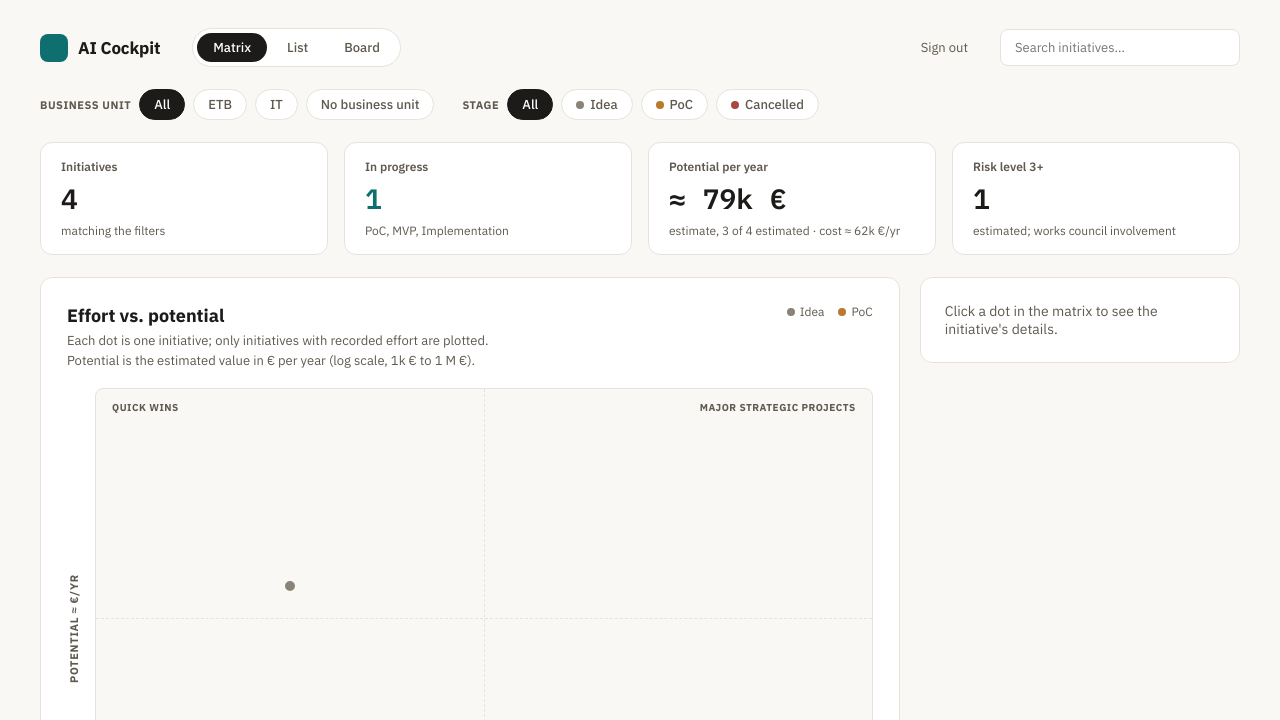
Test case: flagship widget › follows the other filters (business unit)
Click the button "IT" at x=276, y=104, box [255,89,298,120]
(page scrolled)
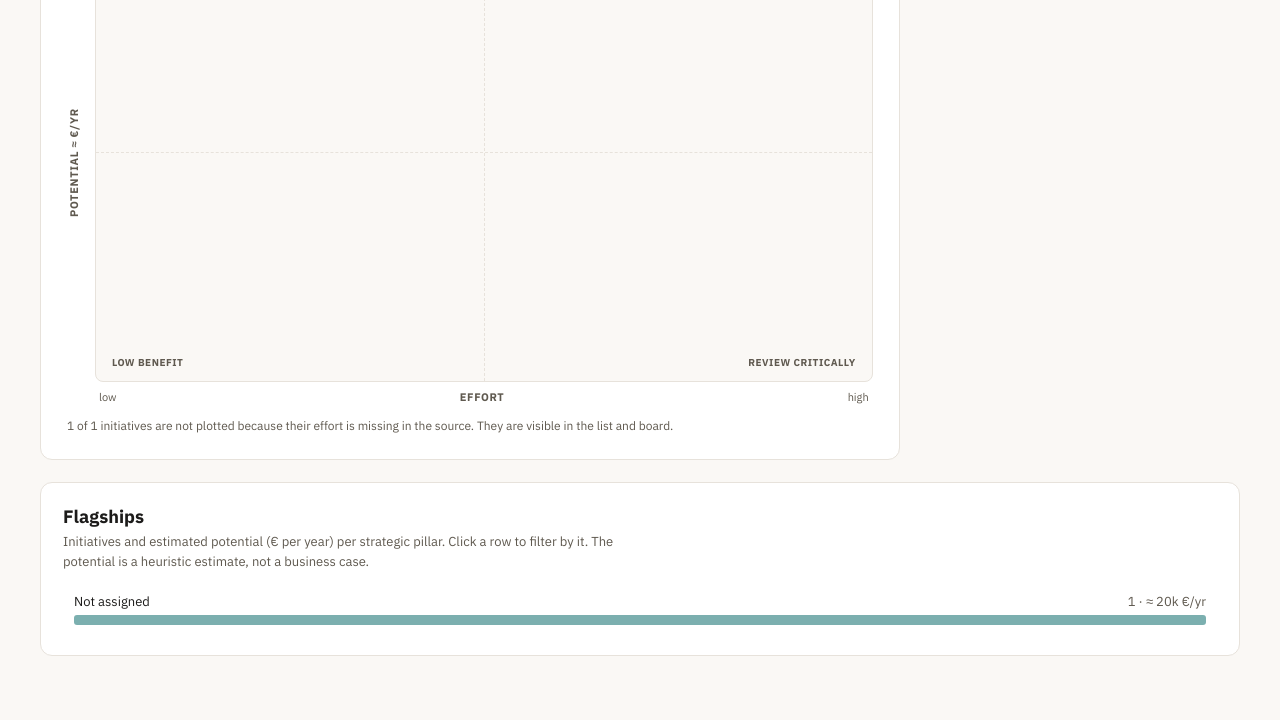
Now the button "Not assigned 1 · ≈ 20k €/yr" is shown, box [63,585,1217,633]
